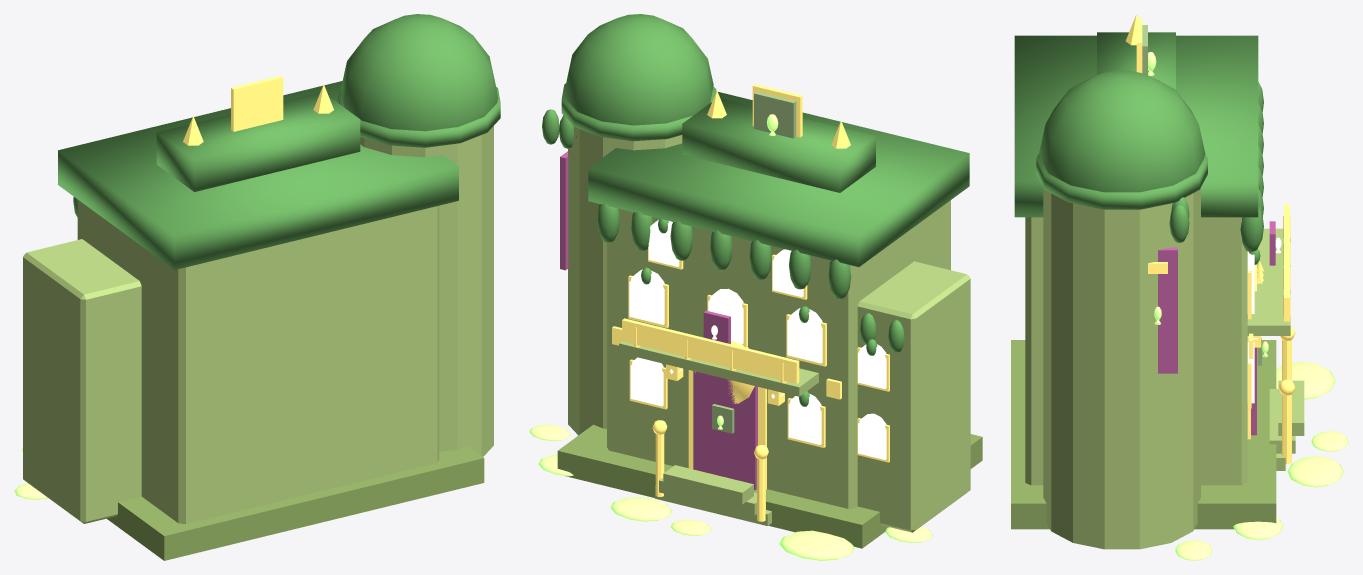
File: SlimeHouse_UpgradeMax.fbx
3 renders of one model, left to right at view 1: azimuth 30°, elevation 25°; view 2: azimuth 150°, elevation 25°; view 3: azimuth 270°, elevation 25°, orthographic. The views are drawn at different scales.
Parts seen in each view (by area): view 1: SlimeHouse_UpgradeMax; view 2: SlimeHouse_UpgradeMax; view 3: SlimeHouse_UpgradeMax.
Part boxes in pixels (<box>): SlimeHouse_UpgradeMax: <box>14,14,500,560</box>; SlimeHouse_UpgradeMax: <box>529,14,982,560</box>; SlimeHouse_UpgradeMax: <box>1011,14,1348,560</box>.
Size of the model in its own units: 3.66 by 3.45 by 2.36.
